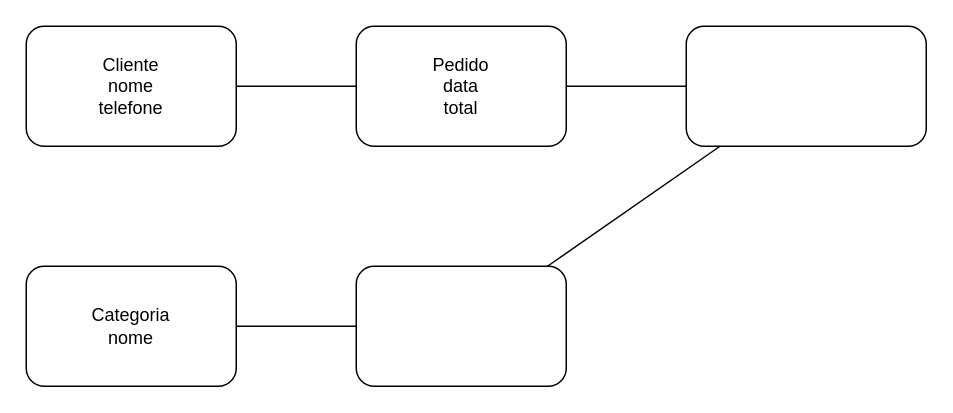
Some shapes in this 953 by 413 pixel diagram are drawn without their labels. Each missing label, with the box of its shape:
ItemPedido quantidade: (685, 25, 926, 146)
Produto nome preco: (355, 265, 566, 386)
